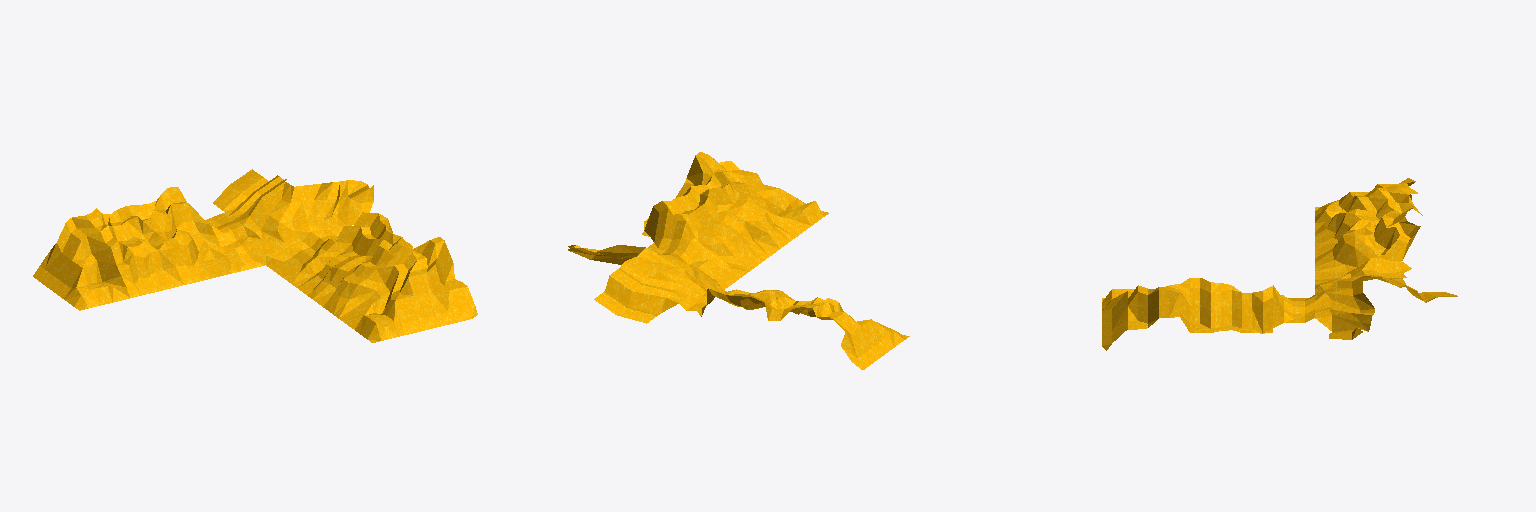
The picture shows the model from 3 angles: view 1: azimuth 30°, elevation 25°; view 2: azimuth 150°, elevation 25°; view 3: azimuth 270°, elevation 25°; orthographic projection.
Visible parts, largest first — view 1: polySurface4 polySurface2; view 2: polySurface4 polySurface2; view 3: polySurface4 polySurface2.
Boxes of the visible parts, x1=… form: polySurface4 polySurface2: x1=33, y1=169, x2=477, y2=342; polySurface4 polySurface2: x1=568, y1=152, x2=909, y2=369; polySurface4 polySurface2: x1=1102, y1=178, x2=1457, y2=350.
Bounding box in the file's own units: 1.77 × 0.3055 × 1.71.
Materials: 1 (1 with a texture image).